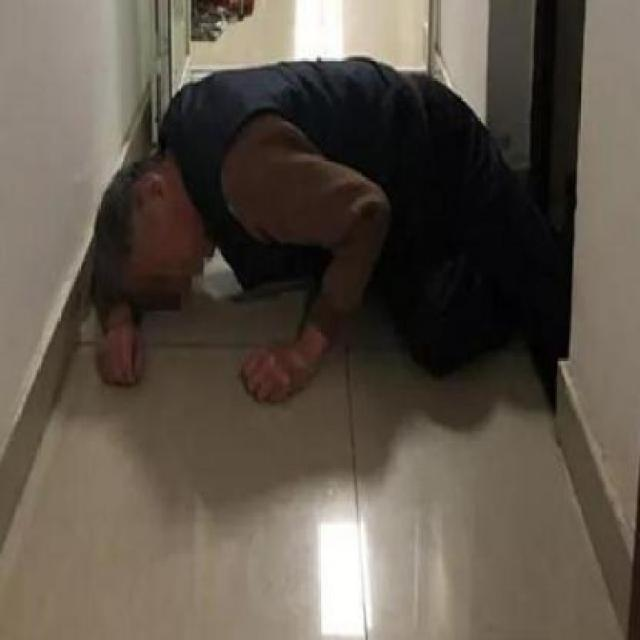fall: (65, 26, 580, 420)
